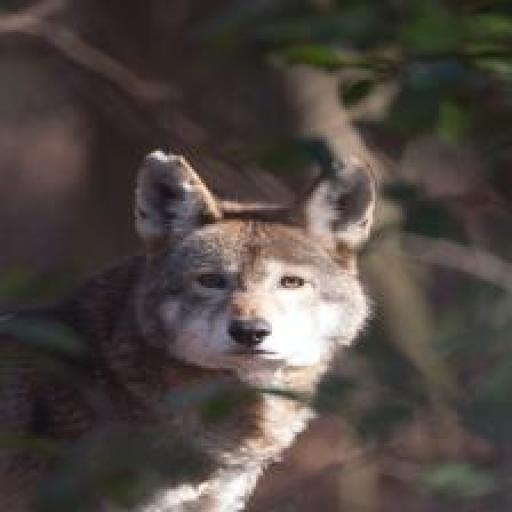wolf: (0, 114, 401, 511)
